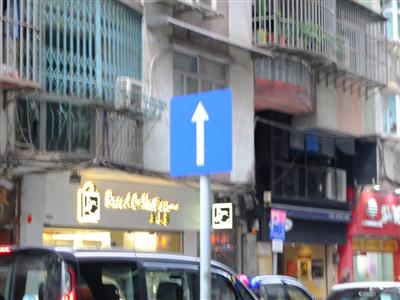oneway: (160, 85, 245, 180)
